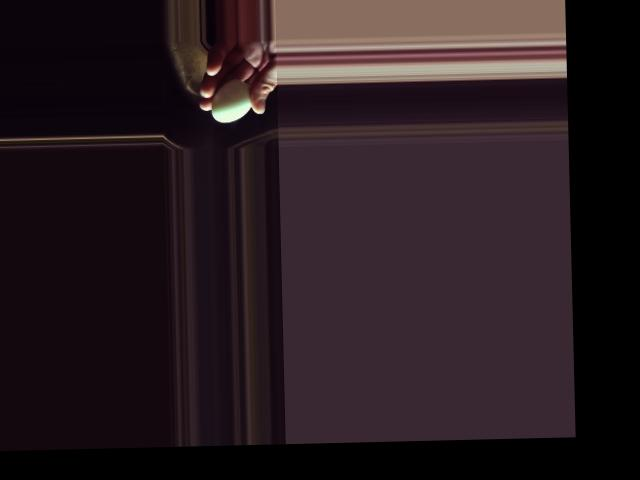egg: (211, 79, 252, 122)
